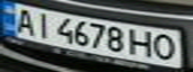4: (51, 16, 75, 44)
6: (69, 19, 90, 47)
7: (87, 20, 109, 51)
8: (106, 24, 127, 54)
A: (9, 6, 39, 35)
H: (127, 27, 157, 58)
I: (30, 10, 57, 38)
O: (151, 32, 181, 62)
